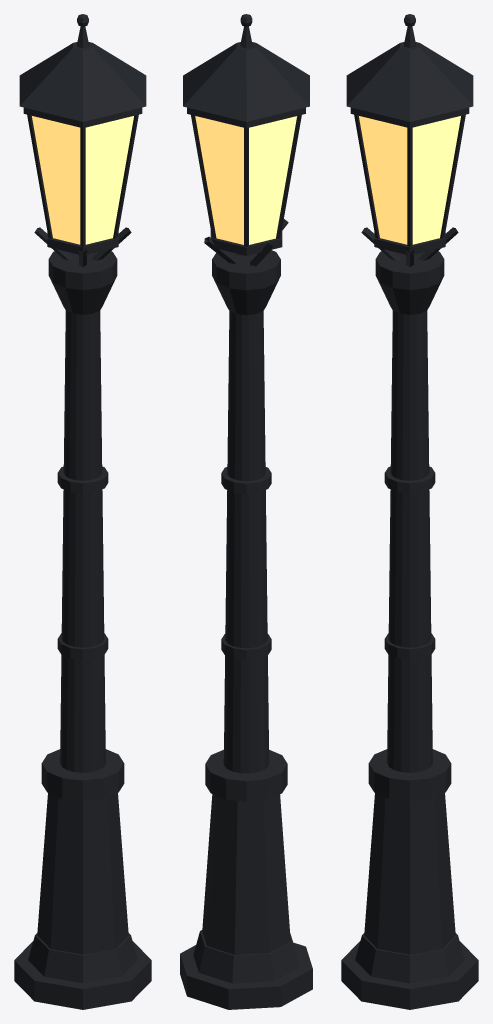
File: farola.glb
3 renders of one model, left to right at view 1: azimuth 90°, elevation 25°; view 2: azimuth 210°, elevation 25°; view 3: azimuth 270°, elevation 25°, orthographic.
Parts seen in each view (by area): view 1: Farola_cuerpo, Farola_cristal; view 2: Farola_cuerpo, Farola_cristal; view 3: Farola_cuerpo, Farola_cristal.
Part boxes in pixels (left/top/right/bottom): Farola_cuerpo: left=14, top=14, right=151, bottom=1009; Farola_cristal: left=32, top=116, right=133, bottom=244; Farola_cuerpo: left=180, top=14, right=312, bottom=1009; Farola_cristal: left=195, top=116, right=296, bottom=244; Farola_cuerpo: left=341, top=14, right=478, bottom=1009; Farola_cristal: left=359, top=116, right=460, bottom=244.
Bounding box in the file's own units: 0.64 × 4.66 × 0.6002.
